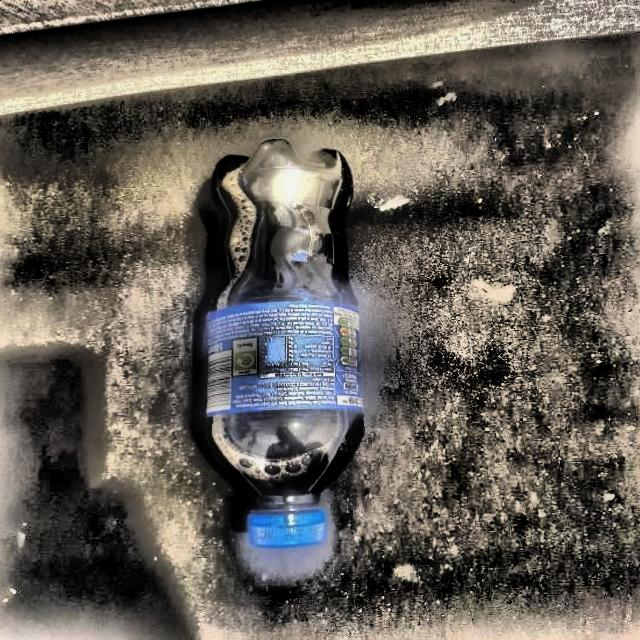pepsi-bottle: (202, 136, 372, 555)
